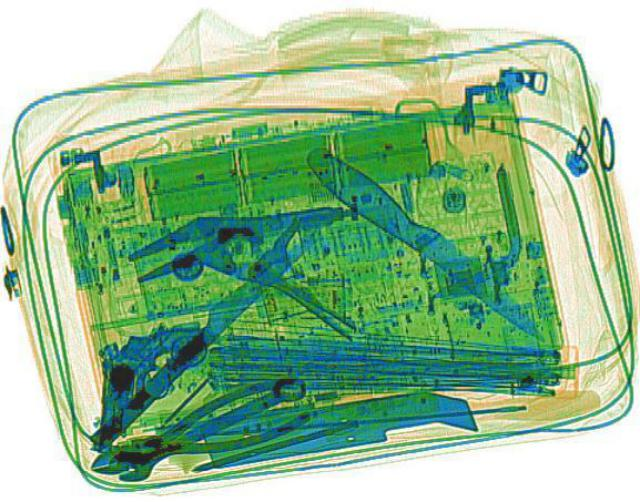Gun: (94, 320, 202, 445)
Knife: (73, 223, 320, 445), (294, 140, 558, 346)
Pliers: (72, 370, 314, 491)
Wrench: (100, 367, 314, 484)
